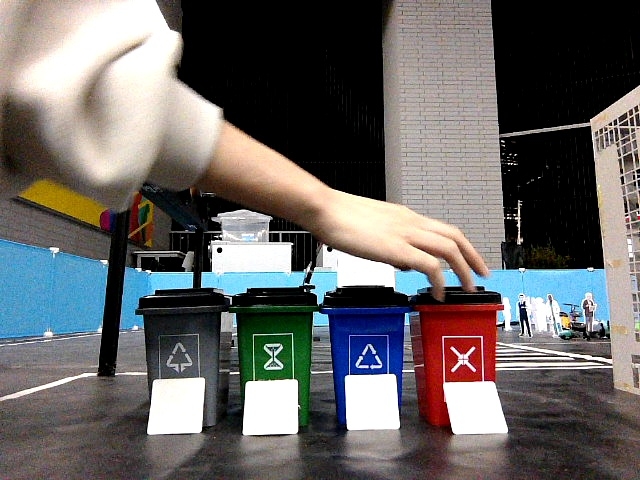blue_close: (327, 285, 402, 369)
green_close: (238, 287, 310, 376)
grey_close: (144, 289, 220, 375)
red_close: (417, 289, 495, 377)
